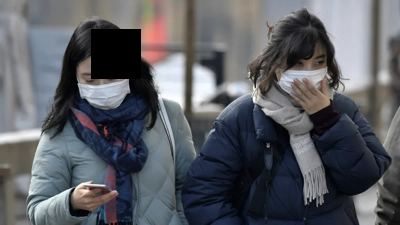with_mask: (277, 53, 329, 99), (77, 66, 130, 108)
